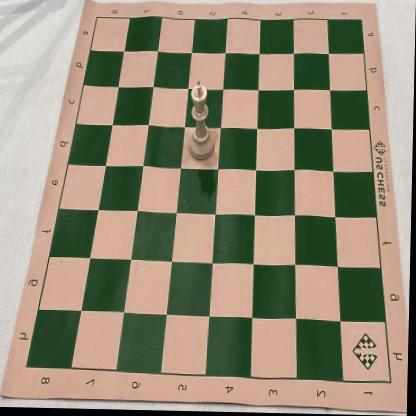white-king: (189, 79, 217, 162)
